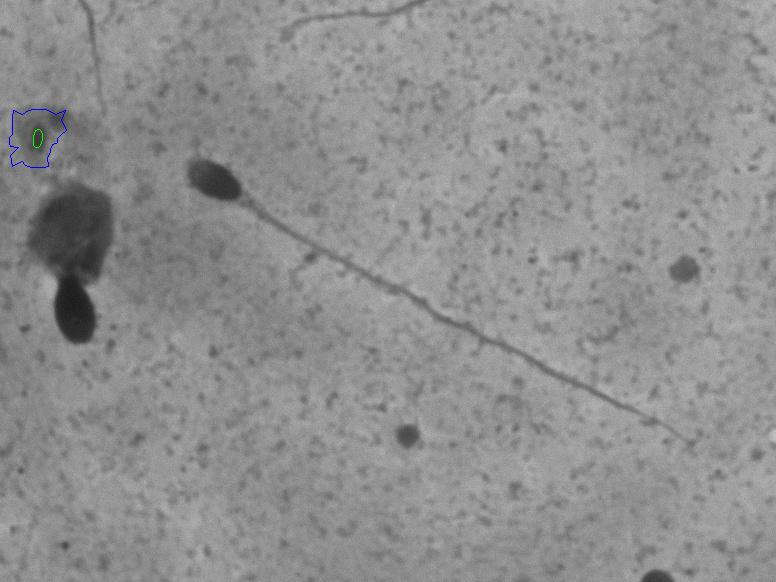Normal: (168, 140, 706, 465)
